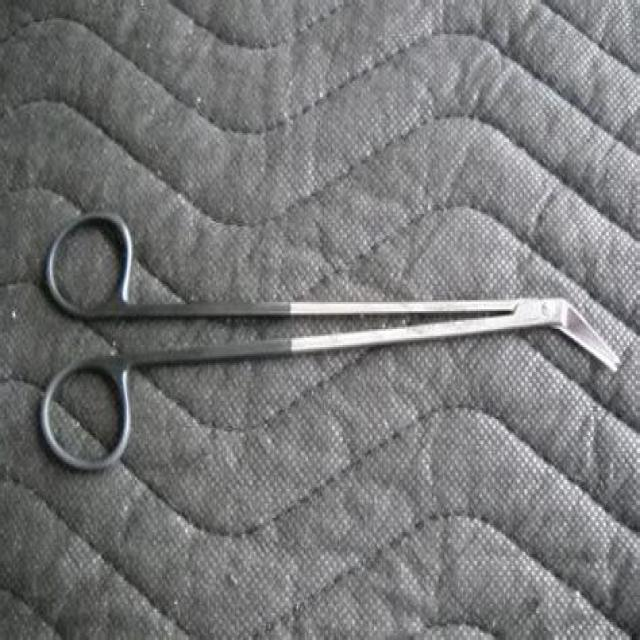Potts: (38, 205, 624, 484)
